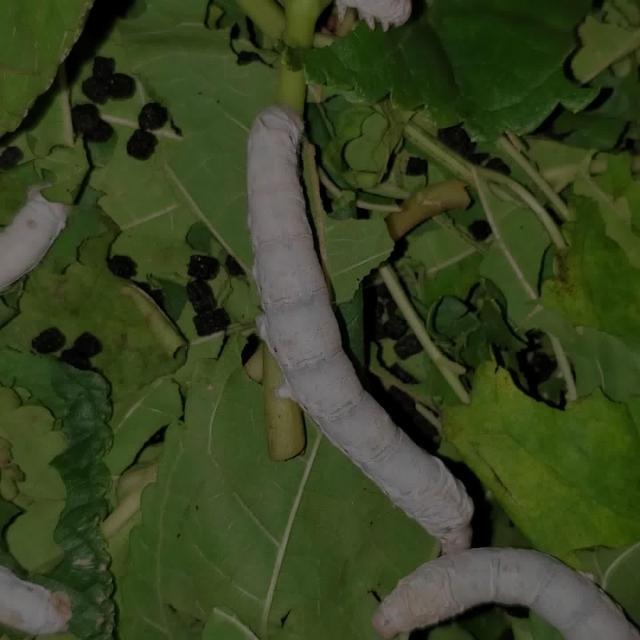Healthy: (206, 82, 640, 638)
